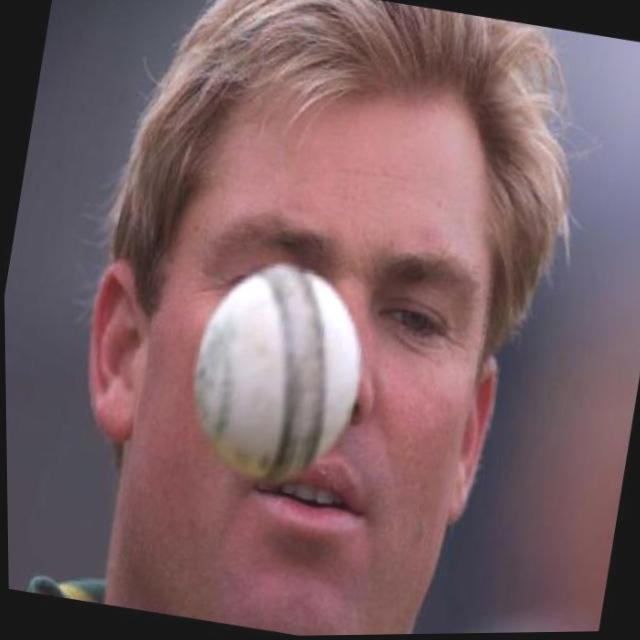-: (176, 250, 379, 501)
